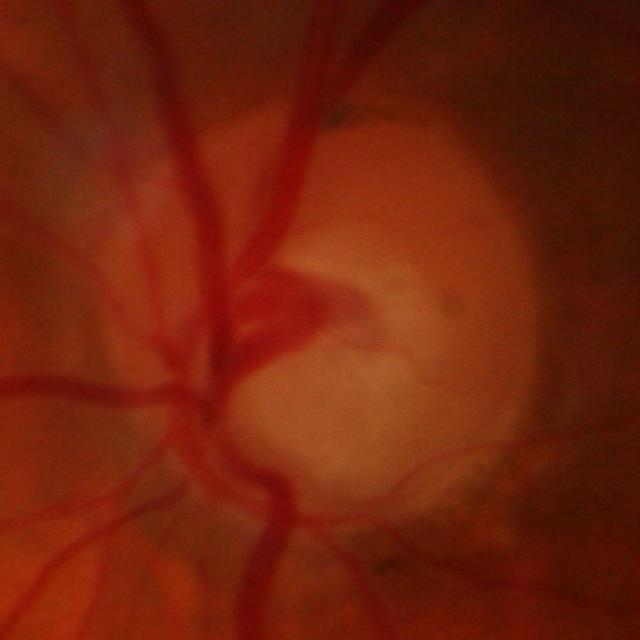OC: (254, 241, 452, 399)
OD: (95, 98, 546, 536)
